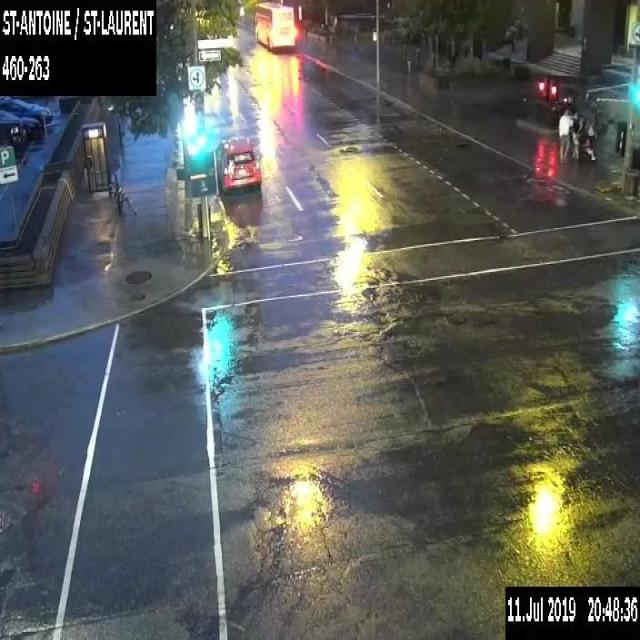bus: (253, 0, 294, 49)
pedestrian: (557, 106, 573, 162), (570, 108, 584, 159), (584, 114, 596, 160)
vehicle: (213, 133, 262, 195), (0, 94, 52, 125), (0, 109, 43, 139), (0, 118, 26, 156)
